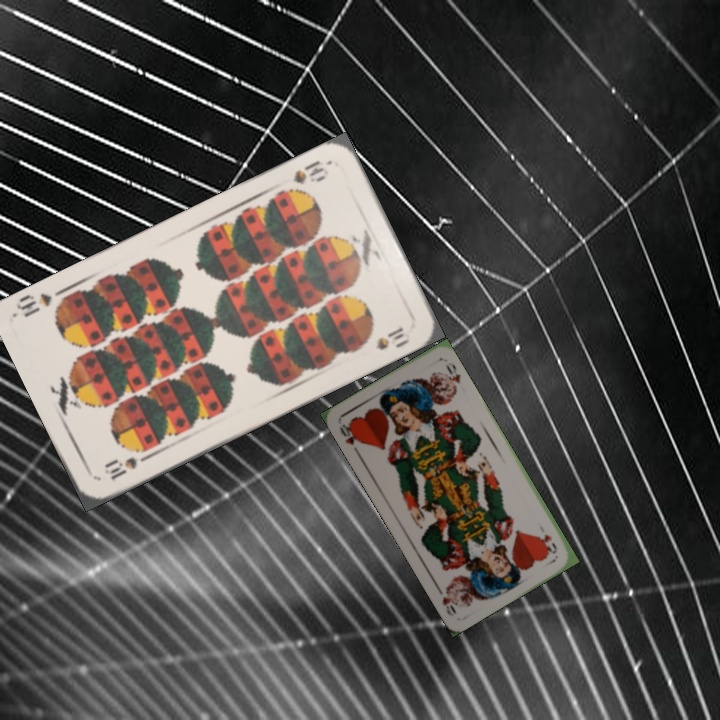HO: (335, 419, 364, 456), (535, 521, 560, 557)
S10: (100, 450, 153, 483), (288, 156, 327, 187)
